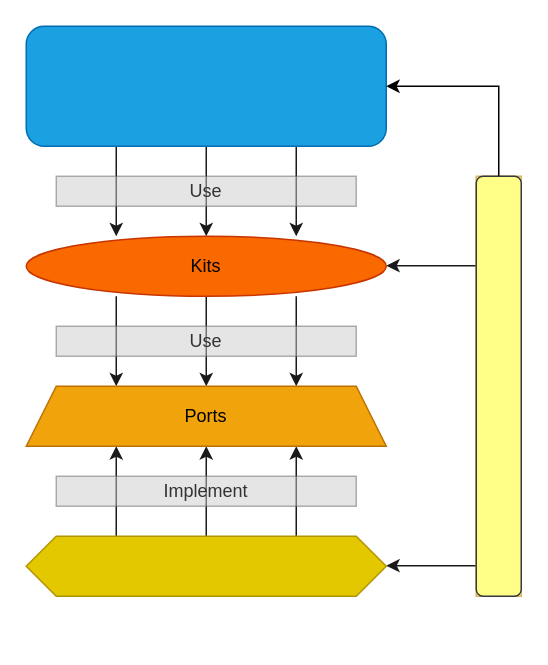
This 548x665 diagram has some shape labels left out. The shapes that lost their labels are listed below. From the top down, each one's box as (x1, y1, x2, y2) in pixels, then its label:
(25, 25, 386, 146): Your Applications
(475, 175, 521, 596): Utilities
(25, 535, 386, 596): Adapters
